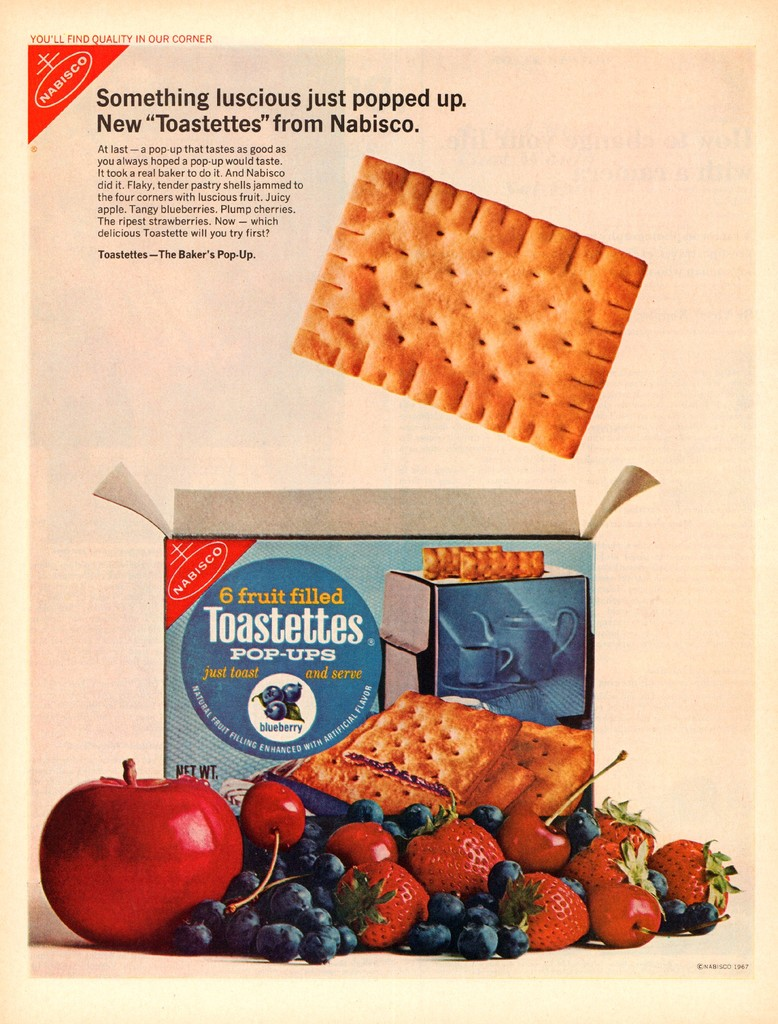Apple: (53, 774, 253, 955)
